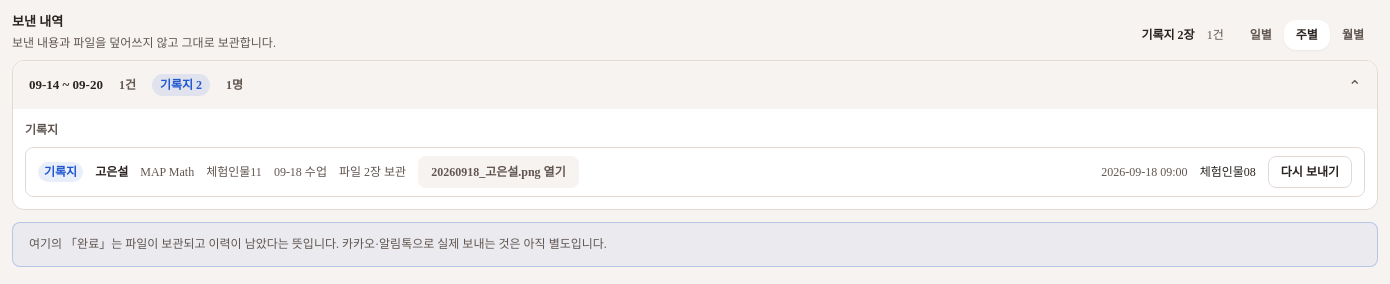
Scenario: 보낸 내역은 서버 묶음(주별 기본)으로 접히고 줄에 과목·강사·수업일·시각을 적는다 (§48)
The image size is (1390, 284).
Expected: the text "09-14 ~ 09-20" is shown, [29, 75, 103, 94]
Expected: the heading "보낸 내역" is shown, [12, 14, 63, 29]
Note: 월별로 바꾸면 서버에 월 눈금을 묻는다
Click the button "월별": (1353, 34) [1330, 20, 1376, 50]
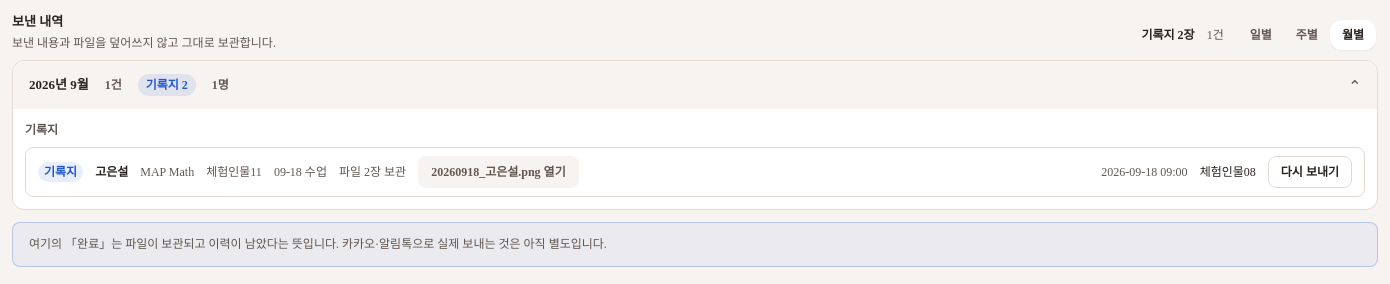
Expected: the text "2026년 9월" is shown, [29, 75, 89, 94]
